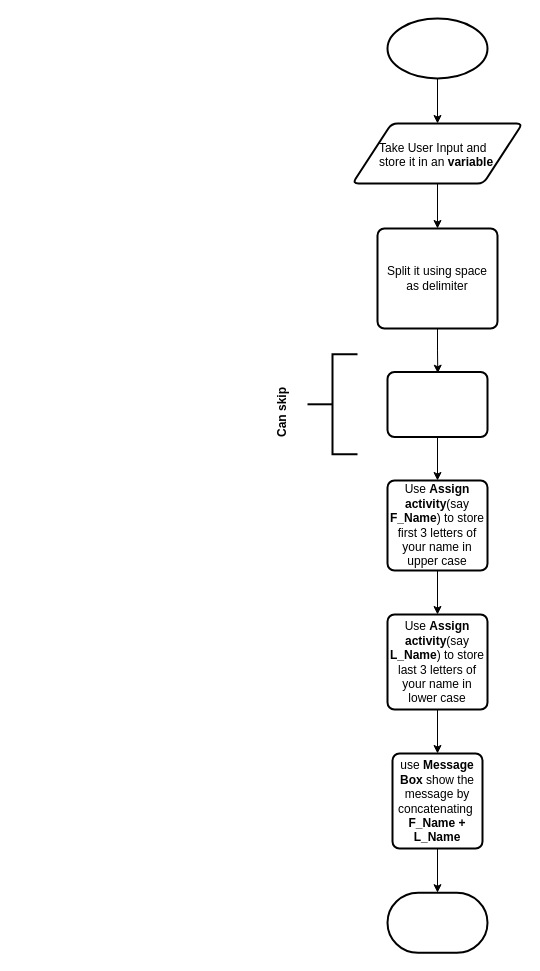
The diagram is 540 pixels wide and 971 high, and some of its shapes have lost their labels. The centre of each missing label's shape, as x and y in pixels:
"Log the Message" goes at (x=437, y=404).
"Start" goes at (x=437, y=48).
"Stop" goes at (x=437, y=922).
